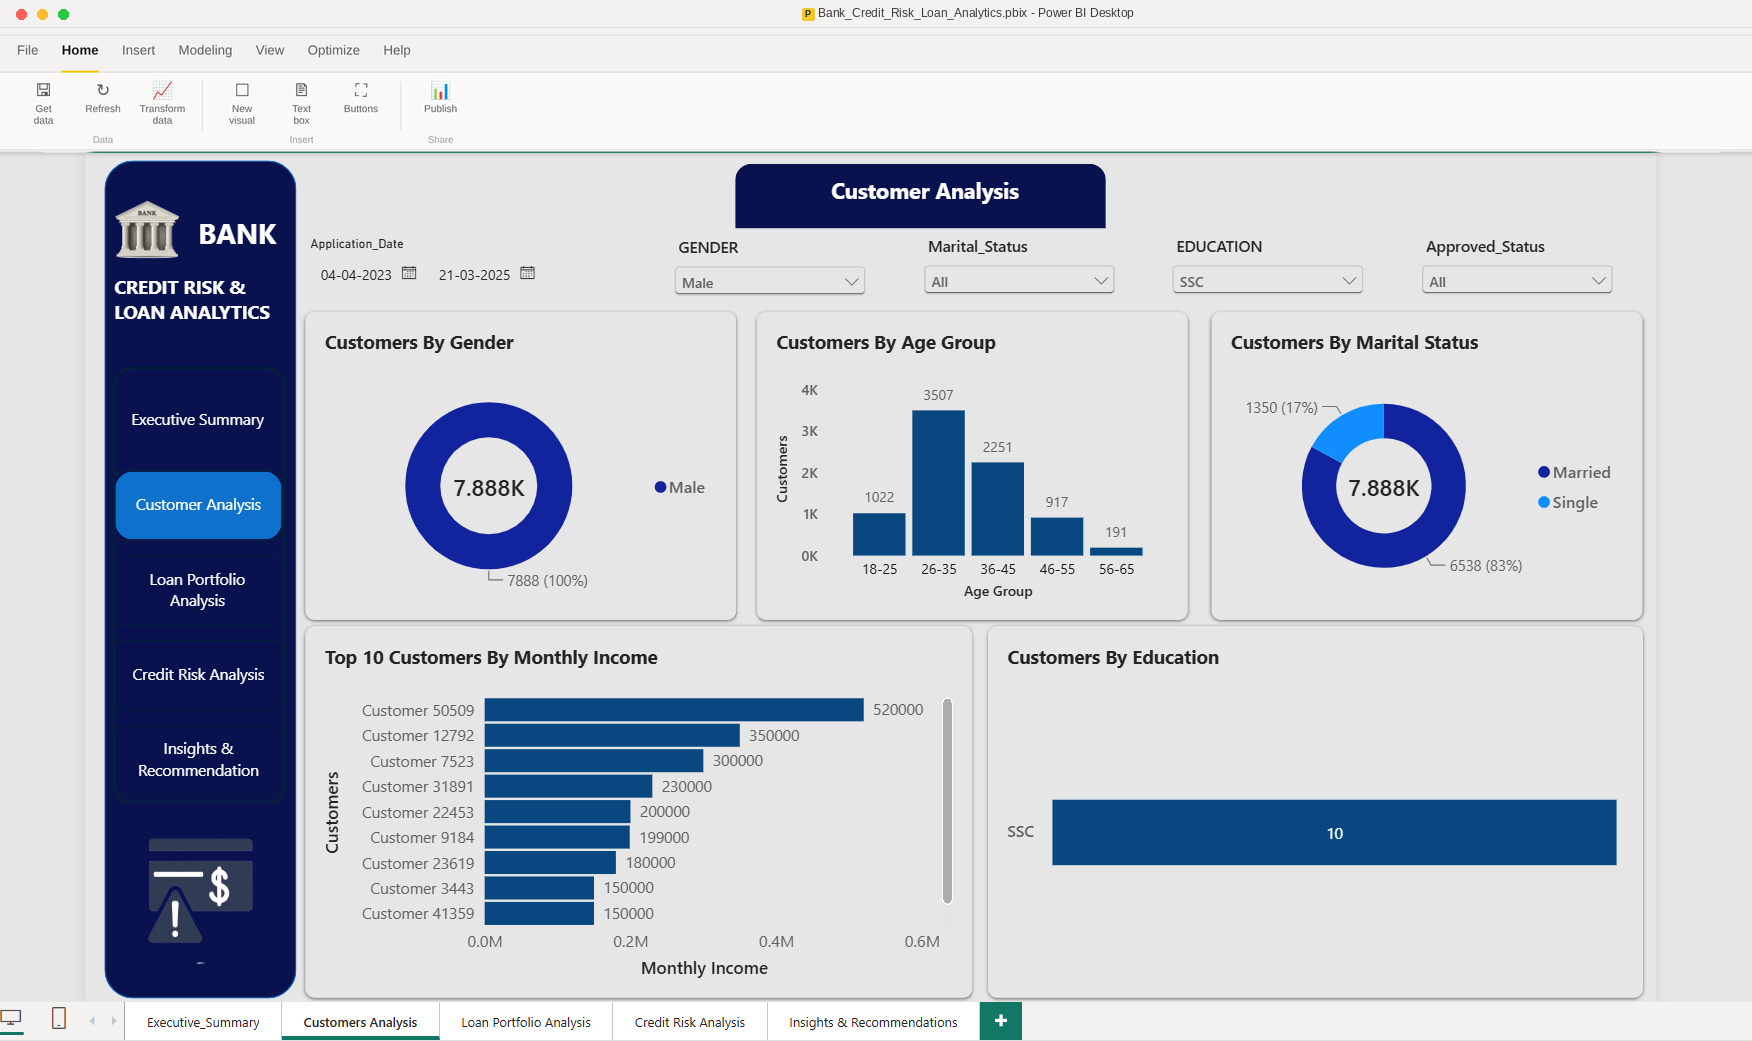

What the dashboard file says about the page in this screenshot:
{"tool":"powerbi","page":{"name":"Customers Analysis","canvas":[1350,730],"ordinal":1},"visuals":[{"type":"shape","box":[16.4,6.2,165,720],"z":0},{"type":"image","box":[16.4,27,71.8,77],"z":1000},{"type":"textbox","box":[88.1,51.9,85.3,36.4],"z":2000},{"type":"textbox","box":[24.7,103.9,174.3,55.7],"z":3000},{"type":"shape","box":[23.9,184.1,148.7,375.5],"z":4000},{"type":"actionButton","title":"Executive Summary","box":[23.9,199.7,145,60.3],"z":5000},{"type":"actionButton","title":"Executive Summary","box":[25,272.7,145,60.3],"z":6000},{"type":"actionButton","title":"Executive Summary","box":[23.9,345.8,145,60.3],"z":7000},{"type":"actionButton","title":"Executive Summary","box":[25,418.9,145,60.3],"z":8000},{"type":"actionButton","title":"Executive Summary","box":[25,491.9,145,60.3],"z":9000},{"type":"shape","box":[559.1,9,318.6,55.7],"z":10000},{"type":"textbox","box":[590.3,19.4,263.1,35.4],"z":11000},{"type":"slicer","fields":{"Values":["Dim_Customer.Application_Date"]},"box":[186,71.4,275.6,64.5],"z":12000},{"type":"slicer","fields":{"Values":["Dim_Customer.GENDER"]},"box":[501.9,71.4,173.7,60.3],"z":13000},{"type":"slicer","fields":{"Values":["Dim_Customer.Marital_Status"]},"box":[716,70.4,173.7,60.3],"z":14000},{"type":"slicer","fields":{"Values":["Dim_Customer.Approved_Status"]},"box":[1144.1,70.7,173.7,60.3],"z":15000},{"type":"donutChart","title":"Customers By Gender","fields":{"Category":["Dim_Customer.GENDER"],"Y":["CountNonNull(Dim_Customer.PROSPECTID)"]},"box":[188.9,136.2,370,264.7],"z":16000},{"type":"slicer","fields":{"Values":["Dim_Customer.EDUCATION"]},"box":[930.1,70.4,173.7,60.3],"z":17000},{"type":"clusteredColumnChart","title":"Customers By Age Group","fields":{"Category":["Dim_Customer.Age Group"],"Y":["CountNonNull(Dim_Customer.PROSPECTID)"]},"box":[576.8,136.2,370,264.7],"z":18000},{"type":"donutChart","title":"Customers By Marital Status","fields":{"Category":["Dim_Customer.Marital_Status"],"Y":["CountNonNull(Dim_Customer.PROSPECTID)"]},"box":[967.9,136.2,370,264.7],"z":19000},{"type":"clusteredBarChart","title":"Top 10 Customers By Monthly Income","fields":{"Category":["Dim_Customer.Customer"],"Y":["Sum(Dim_Customer.NETMONTHLYINCOME)"]},"box":[188.9,406.4,573.1,319.8],"z":20000},{"type":"funnel","title":"Customers By Education","fields":{"Category":["Dim_Customer.EDUCATION"],"Y":["CountNonNull(Dim_Customer.PROSPECTID)"]},"box":[775.8,406.4,562.6,319.8],"z":21000}]}

Visuals, with their boxes on the page's 1350x730 design canvas (x1, y1, x2, y2). These are canvas units, not pixel positions in the 1752x1041 screenshot, which may show the page scaled, cropped or inside an application window:
shape: select_region(16, 6, 181, 726)
image: select_region(16, 27, 88, 104)
textbox: select_region(88, 52, 173, 88)
textbox: select_region(25, 104, 199, 160)
shape: select_region(24, 184, 173, 560)
"Executive Summary" actionButton: select_region(24, 200, 169, 260)
"Executive Summary" actionButton: select_region(25, 273, 170, 333)
"Executive Summary" actionButton: select_region(24, 346, 169, 406)
"Executive Summary" actionButton: select_region(25, 419, 170, 479)
"Executive Summary" actionButton: select_region(25, 492, 170, 552)
shape: select_region(559, 9, 878, 65)
textbox: select_region(590, 19, 853, 55)
slicer - Dim_Customer.Application_Date: select_region(186, 71, 462, 136)
slicer - Dim_Customer.GENDER: select_region(502, 71, 676, 132)
slicer - Dim_Customer.Marital_Status: select_region(716, 70, 890, 131)
slicer - Dim_Customer.Approved_Status: select_region(1144, 71, 1318, 131)
"Customers By Gender" donutChart: select_region(189, 136, 559, 401)
slicer - Dim_Customer.EDUCATION: select_region(930, 70, 1104, 131)
"Customers By Age Group" clusteredColumnChart: select_region(577, 136, 947, 401)
"Customers By Marital Status" donutChart: select_region(968, 136, 1338, 401)
"Top 10 Customers By Monthly Income" clusteredBarChart: select_region(189, 406, 762, 726)
"Customers By Education" funnel: select_region(776, 406, 1338, 726)
